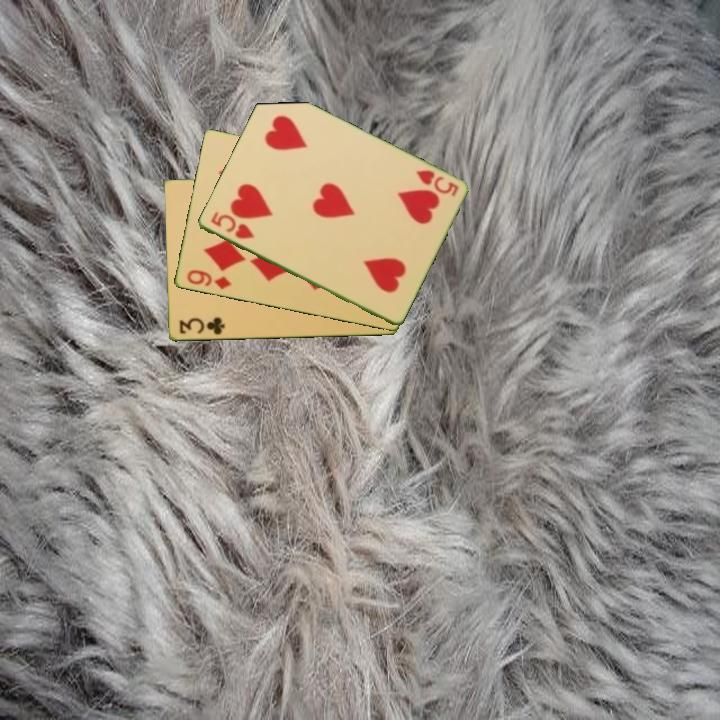3c: (175, 314, 227, 338)
5h: (207, 208, 257, 242), (412, 166, 461, 200)
9d: (183, 266, 234, 292)
